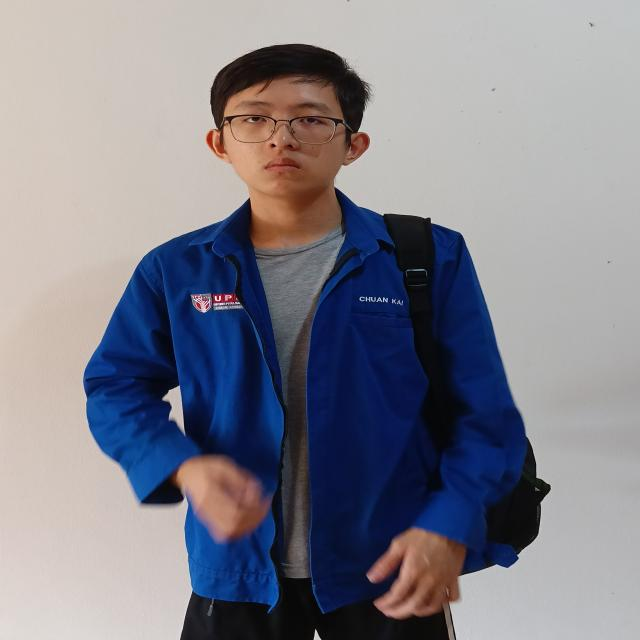person_with_labcoat: (84, 45, 549, 640)
